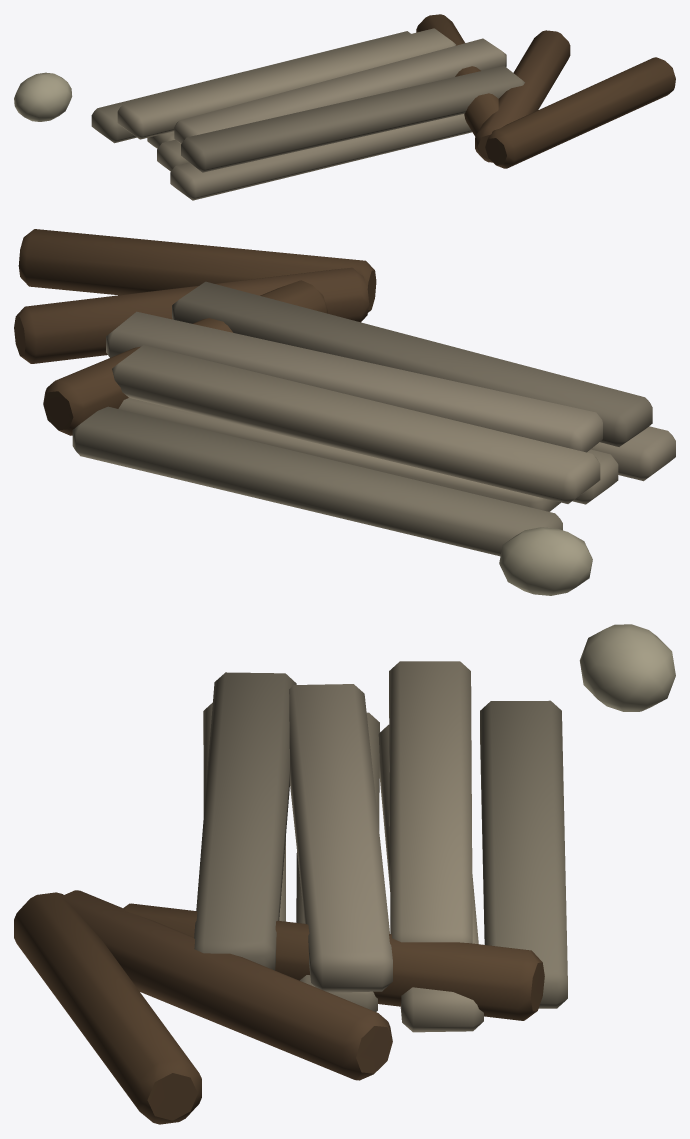
File: timber_lagging_a.glb
3 renders of one model, top to bottom at view 1: azimuth 30°, elevation 25°; view 2: azimuth 150°, elevation 25°; view 3: azimuth 270°, elevation 25°, orthographic. The views are drawn at different scales.
Visible parts, largest first — view 1: Surface; view 2: Surface; view 3: Surface.
Boxes of the visible parts, x1,y1,x2,y2 form: Surface: (14, 14, 675, 200); Surface: (14, 229, 675, 595); Surface: (14, 624, 675, 1124).
Size of the model in its own units: 3.9 by 0.3342 by 2.42.
